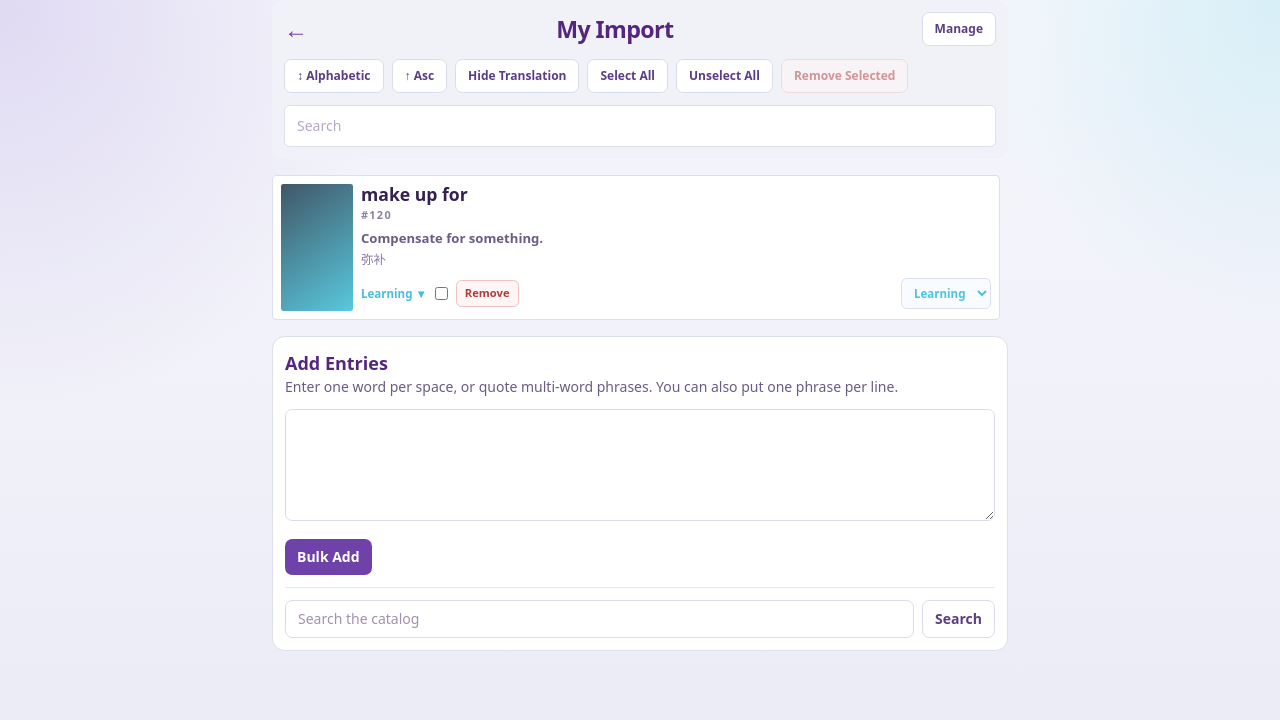
Test: WordListDetailRoute › renders the dedicated detail route and supports management modal updates
Expected: the heading with test id "word-list-detail-title" reads "My Import", [556,13,674,45]
Expected: the button with test id "word-list-translation-toggle" reads "Hide Translation", [455,59,580,93]
Click the button with test id "word-list-manage-button" at coordinates (959, 29), box [922,12,996,46]
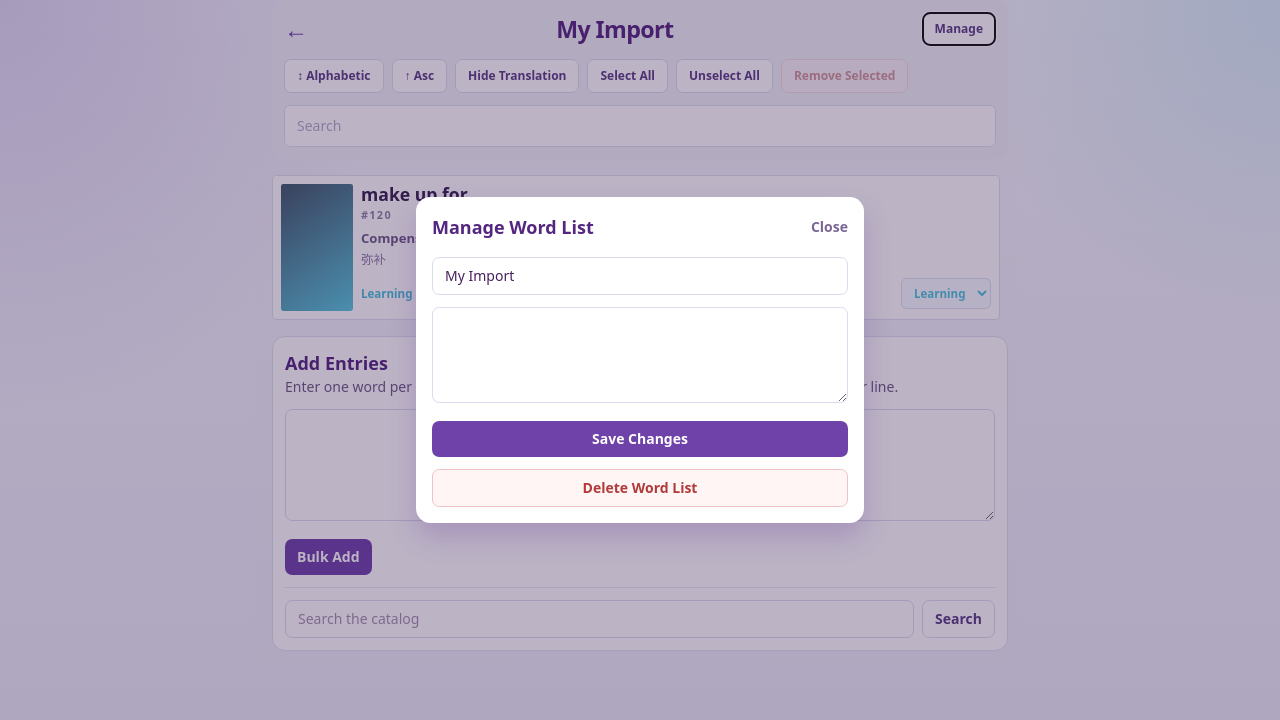
Replace the text in the field with test id "word-list-rename-input" with "Renamed Import" at coordinates (640, 276), box [432,257,848,295]
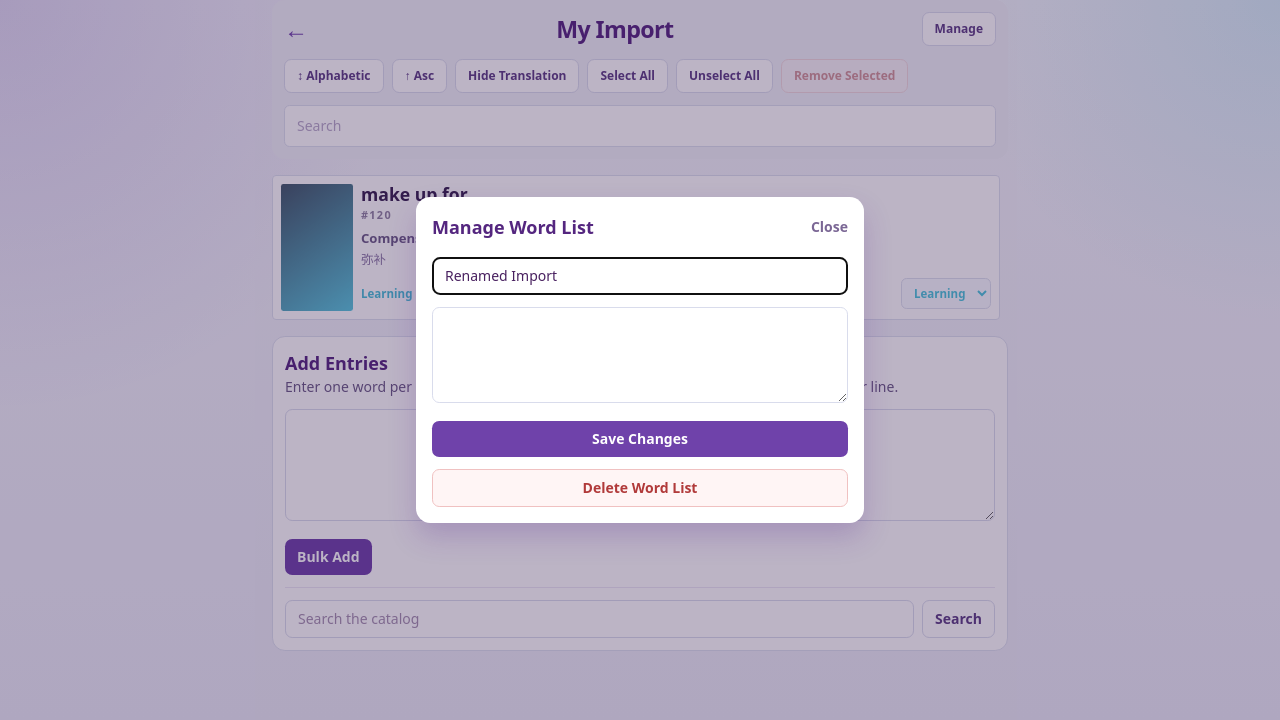
Type "Updated description" into the text box with test id "word-list-description-input" at coordinates (640, 355), box [432,307,848,403]
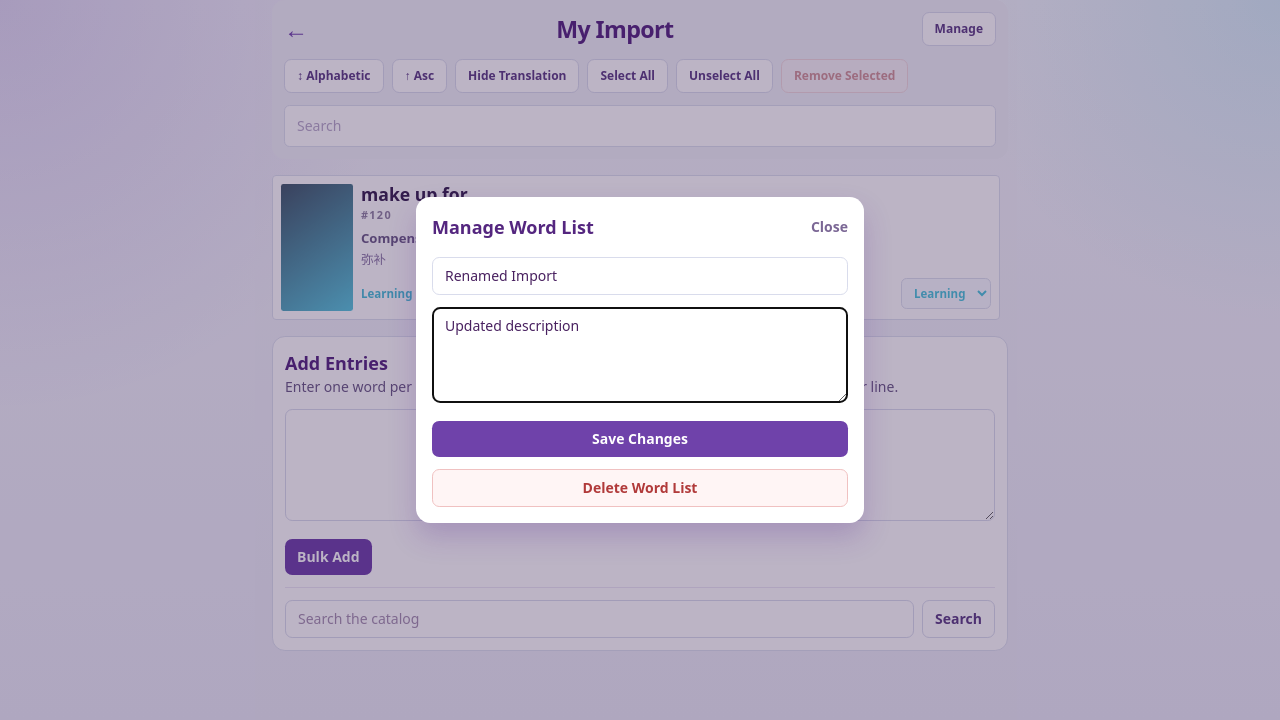
Click the button with test id "word-list-rename-button" at coordinates (640, 439), box [432,421,848,457]
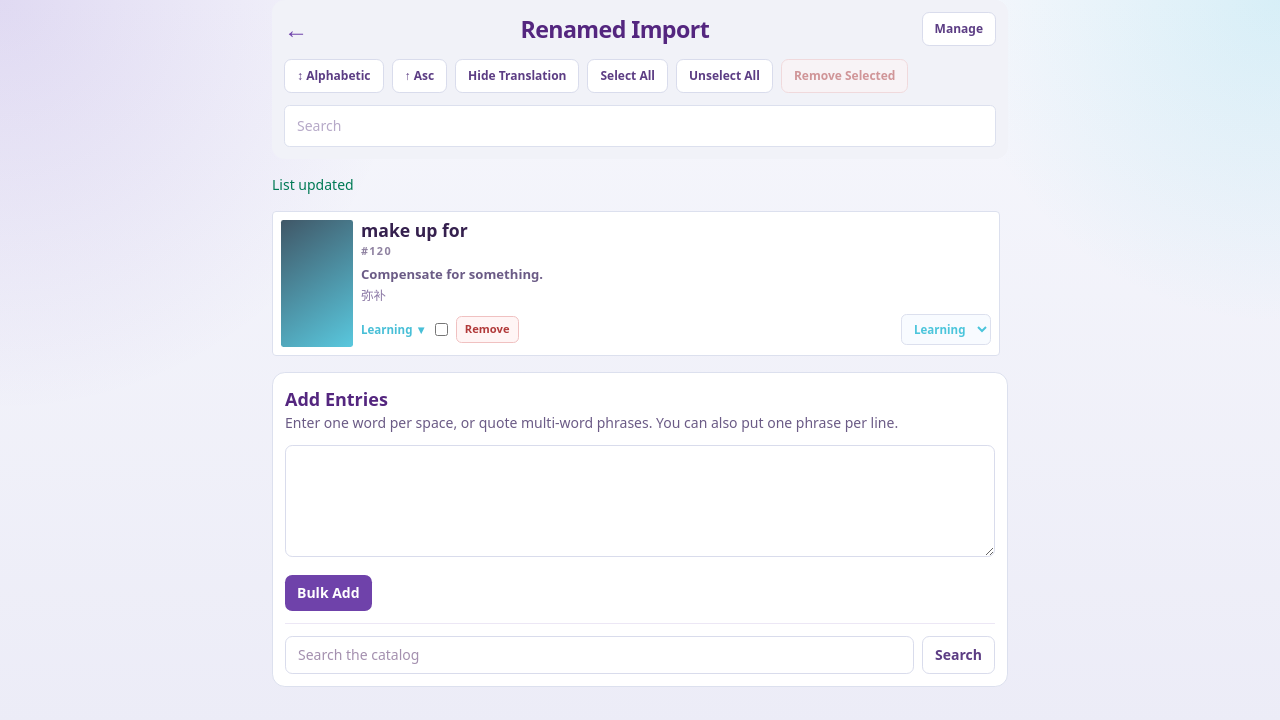
Result: the text with test id "word-list-message" reads "List updated" at [272,175,354,194]
